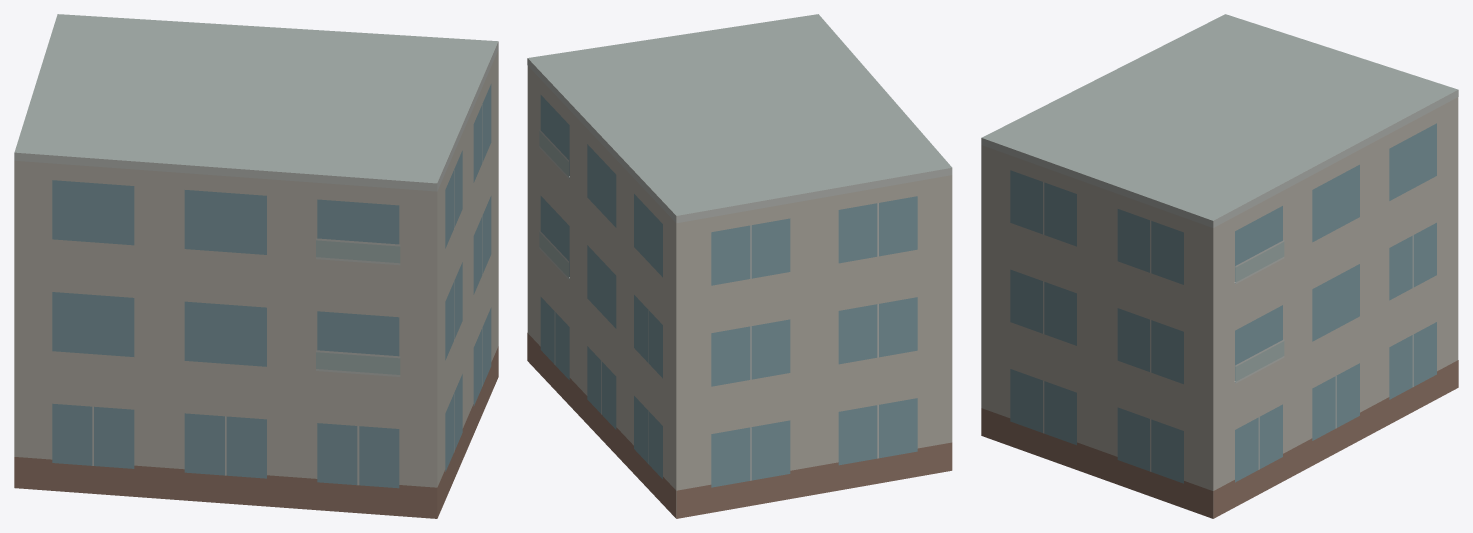
The model's file is survey-upis-32996254.glb.
The picture shows the model from 3 angles, left to right: view 1: azimuth 30°, elevation 25°; view 2: azimuth 150°, elevation 25°; view 3: azimuth 270°, elevation 25°; orthographic projection. The views are drawn at different scales.
Parts seen in each view (by area): view 1: survey-upis-32996254.tmp; view 2: survey-upis-32996254.tmp; view 3: survey-upis-32996254.tmp.
Part boxes in pixels (box(x1,y1,x2,y2)): survey-upis-32996254.tmp: box(14, 14, 498, 518); survey-upis-32996254.tmp: box(527, 14, 952, 518); survey-upis-32996254.tmp: box(981, 14, 1458, 518).
Size of the model in its own units: 15.05 by 10.1 by 14.66.
